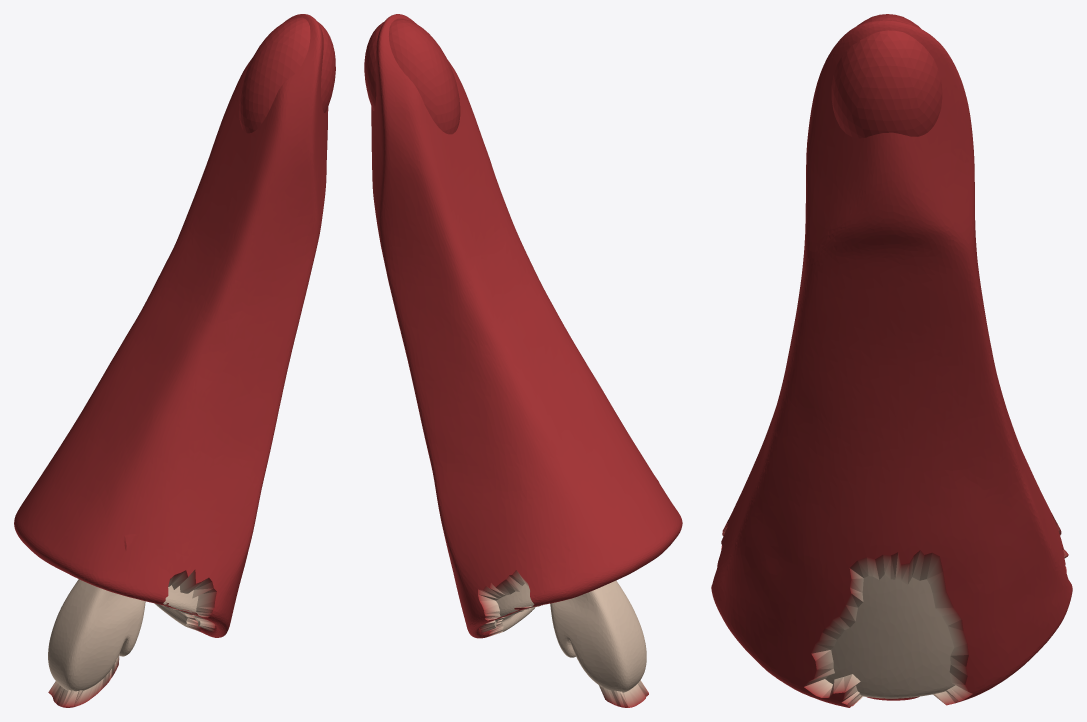
Rendered from arm_R.glb.
3 views of the same model, side by side, from view 1: azimuth 30°, elevation 25°; view 2: azimuth 150°, elevation 25°; view 3: azimuth 270°, elevation 25° (orthographic). The views are drawn at different scales.
Parts seen in each view (by area): view 1: geometry_0; view 2: geometry_0; view 3: geometry_0.
Part boxes in pixels (bbox=[...]): geometry_0: bbox=[14, 14, 335, 707]; geometry_0: bbox=[364, 14, 682, 707]; geometry_0: bbox=[711, 14, 1072, 707].
Bounding box in the file's own units: 0.3277 × 0.675 × 0.2644.
